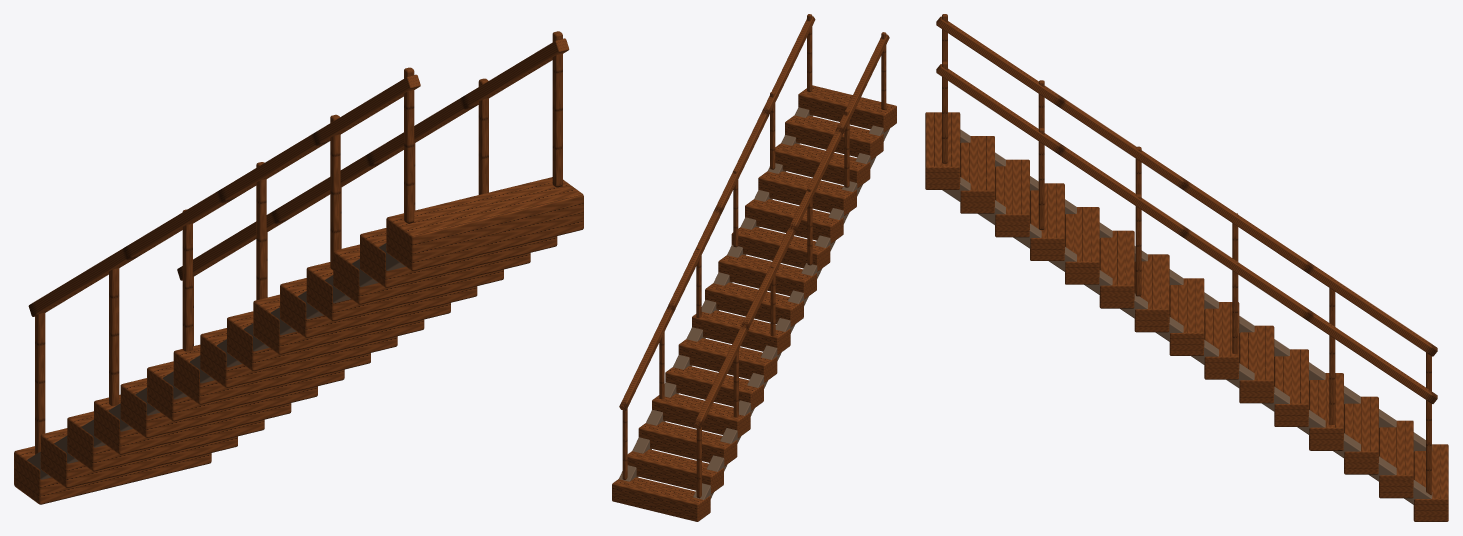
The model's file is adventurers-tavern-and-guild-hall-staircase-run-897a558d__24675.glb.
3 renders of one model, left to right at view 1: azimuth 30°, elevation 25°; view 2: azimuth 150°, elevation 25°; view 3: azimuth 270°, elevation 25°, orthographic. The views are drawn at different scales.
Parts seen in each view (by area): view 1: staircase-run; view 2: staircase-run; view 3: staircase-run.
Part boxes in pixels (x1,y1,x2,y2): staircase-run: [14, 31, 583, 504]; staircase-run: [612, 14, 896, 521]; staircase-run: [925, 14, 1448, 521].
Size of the model in its own units: 1 by 3.85 by 4.
Materials: 2 (1 with a texture image).
